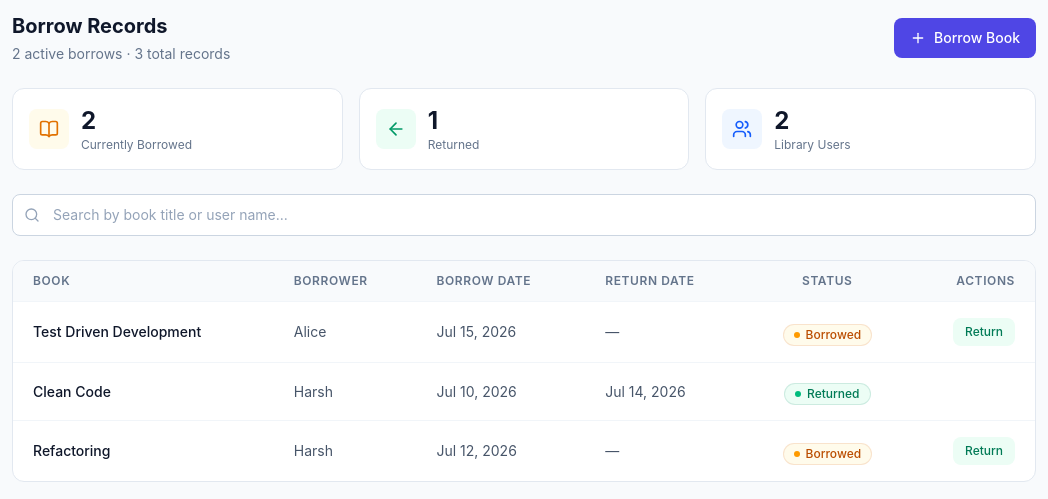
Scenario: BorrowRecords › clears search when X is clicked
Expected: the text "Clean Code" is shown, [33, 382, 111, 400]
Type "Alice" into the field with placeholder "Search by book title or user name...".
click(524, 215); type("Alice")  # box [12, 194, 1036, 236]
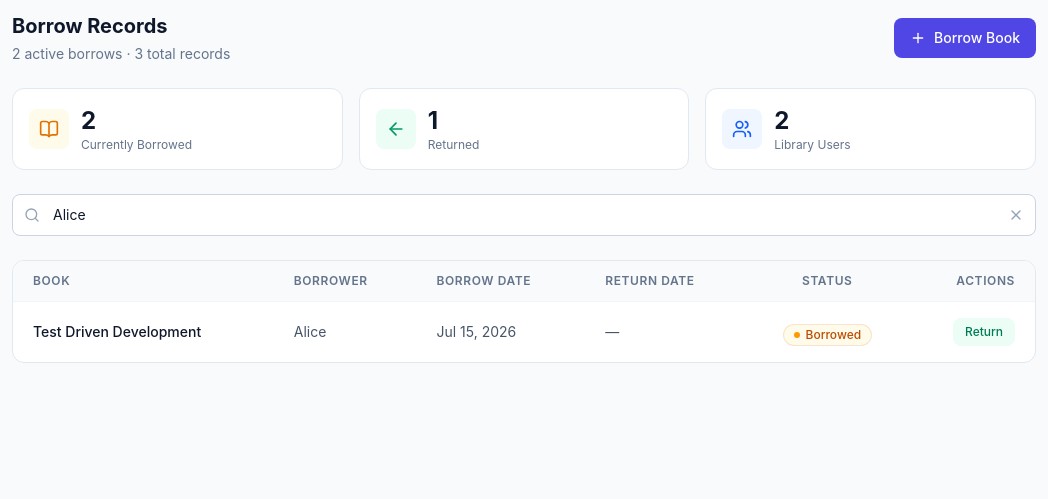
# Find the X clear button in the search container
Click the 2nd button.
click(1016, 215)  # box [1008, 207, 1024, 223]
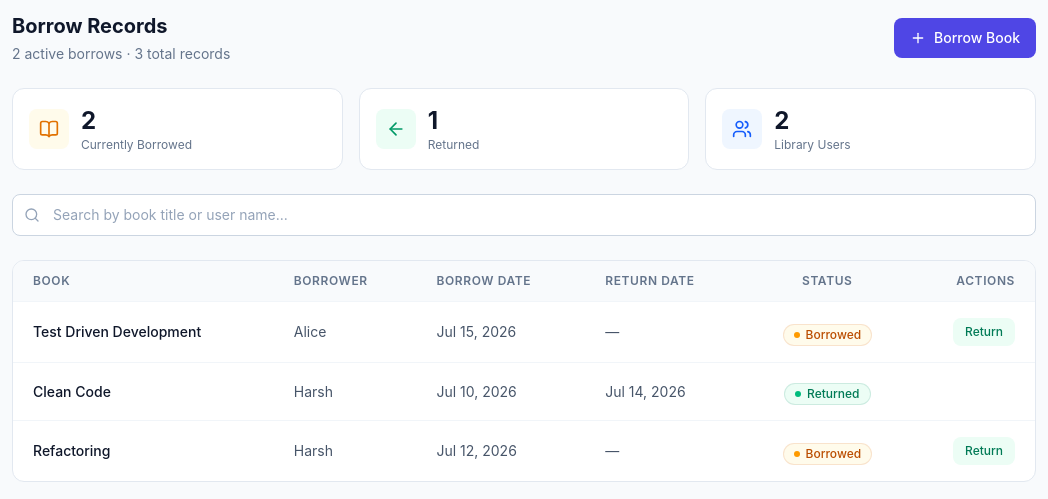
Now the text "Clean Code" is shown, box [33, 382, 111, 400]
